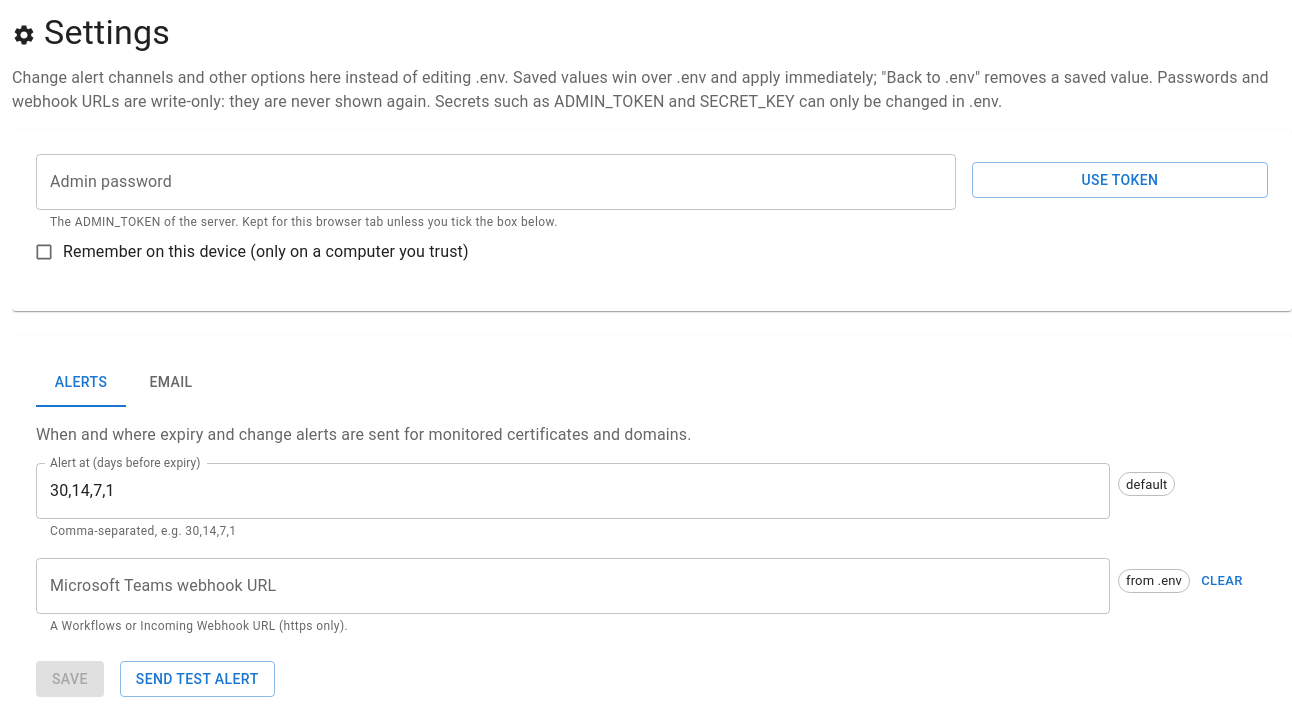
Test: shows the server's validation error next to the field
Type "x" into the field labelled "Alert at (days before expiry)" at (573, 491), box left=36, top=463, right=1110, bottom=519
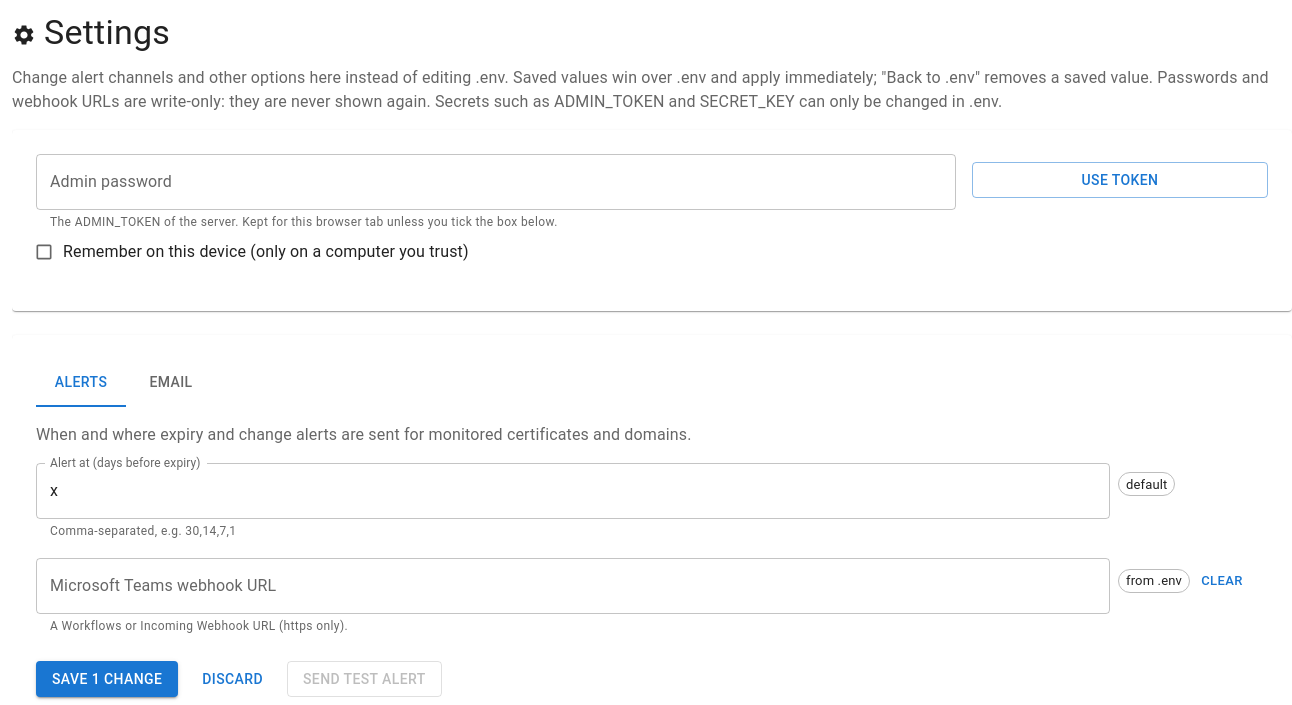
Click the button "Save 1 change" at (107, 679), box left=36, top=661, right=178, bottom=697
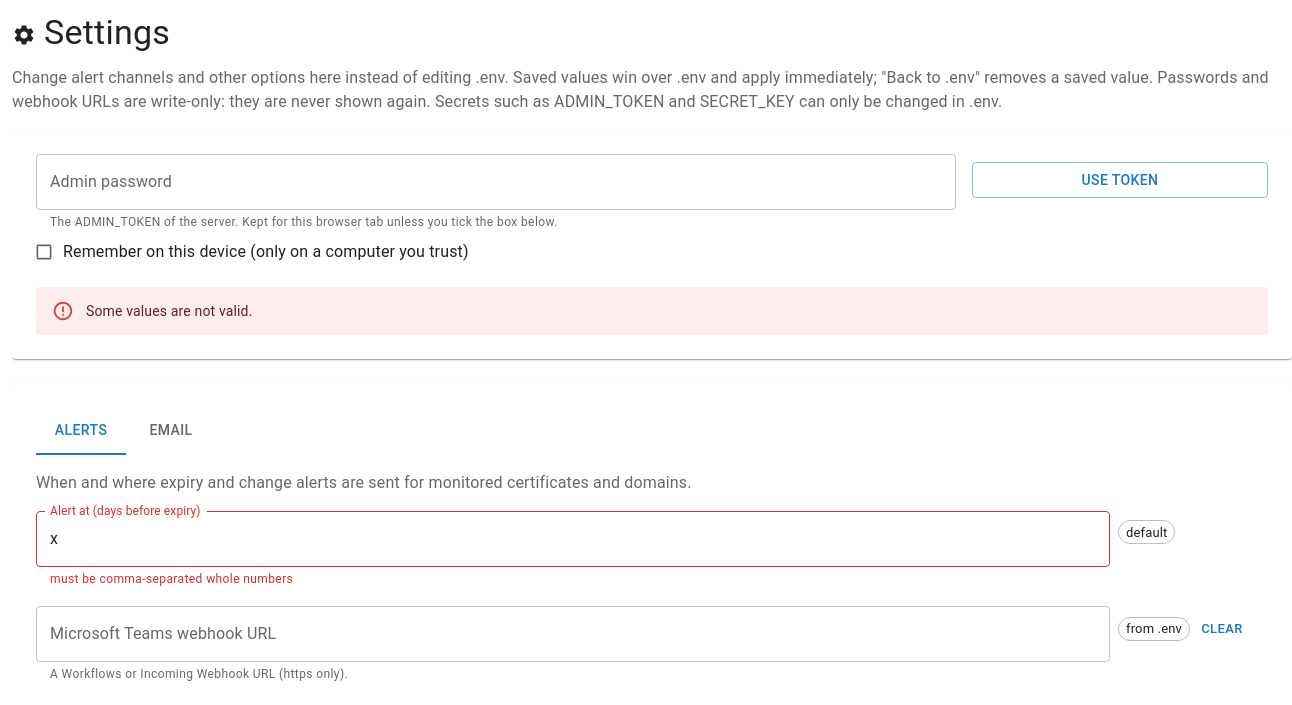
Check: the text "must be comma-separated whole numbers" is shown, box left=50, top=572, right=293, bottom=586
